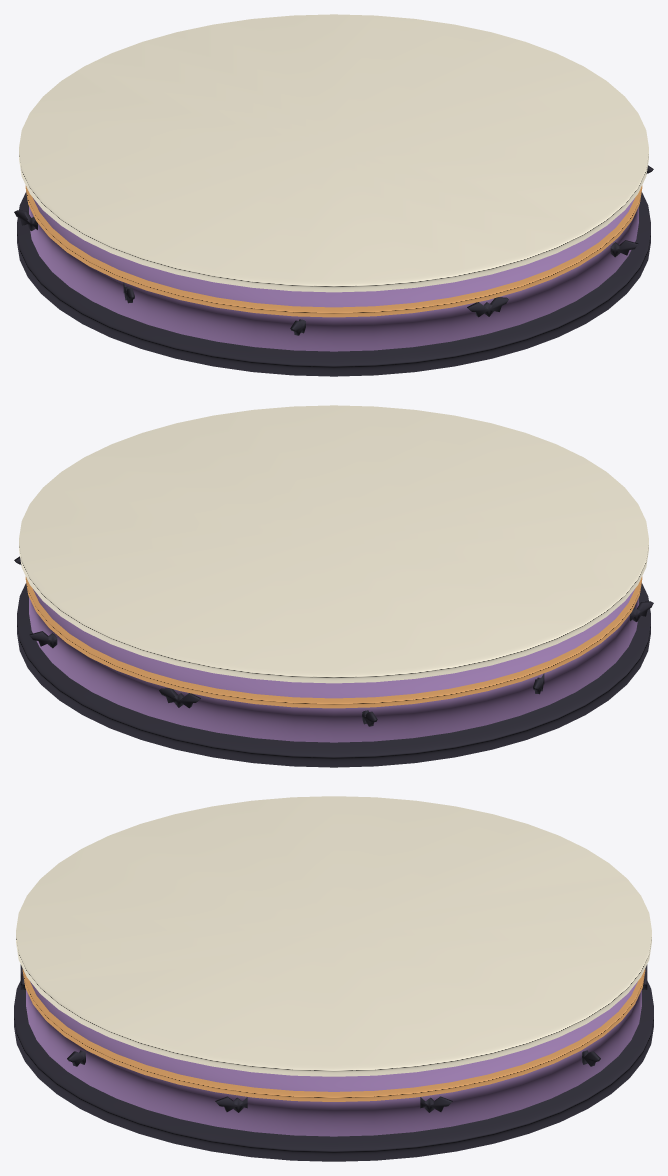
File: pedestal.glb
3 renders of one model, top to bottom at view 1: azimuth 30°, elevation 25°; view 2: azimuth 150°, elevation 25°; view 3: azimuth 270°, elevation 25°, orthographic.
Bounding box in the file's own units: 6.34 × 1.05 × 6.34.
